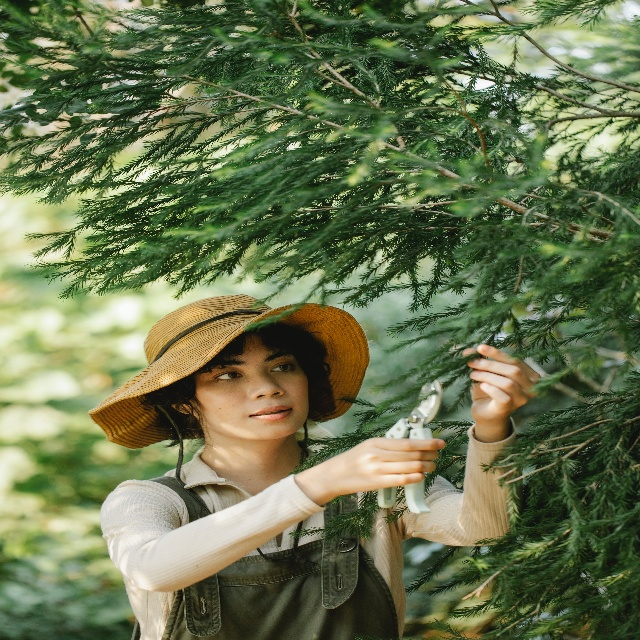Sin_guantes: (462, 343, 541, 428), (340, 437, 446, 496)
